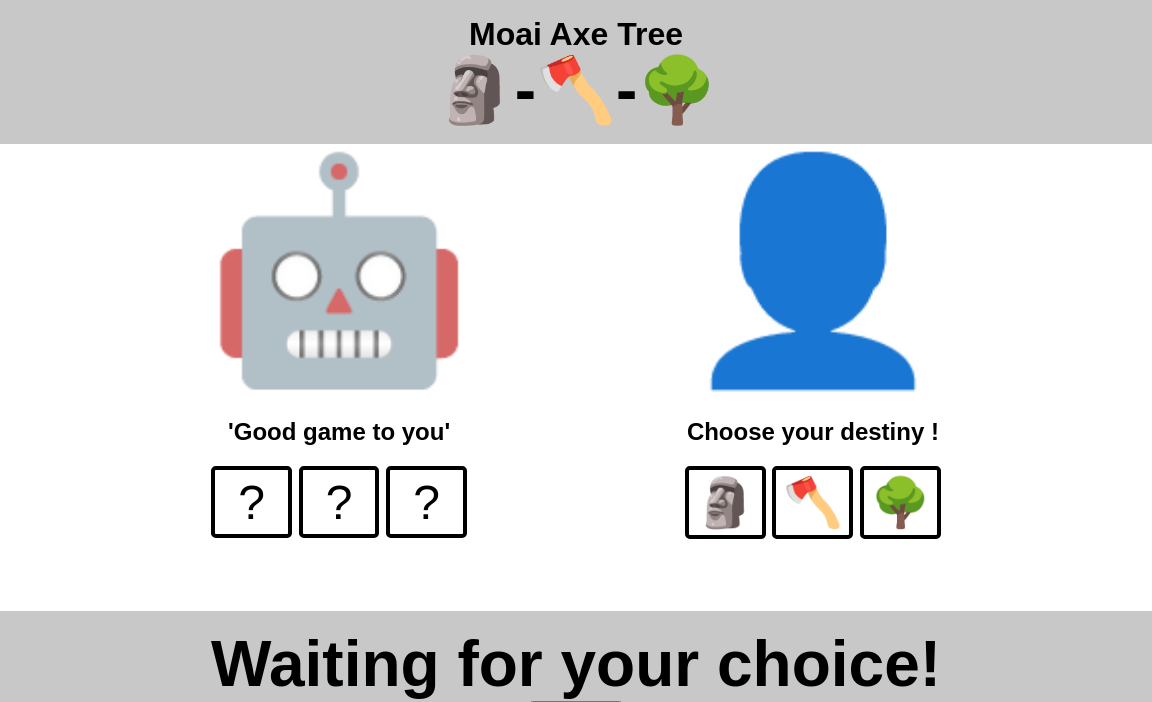
Game Tests › Test that I can make a choice
Click the button "🗿": (726,503) [685, 466, 766, 540]
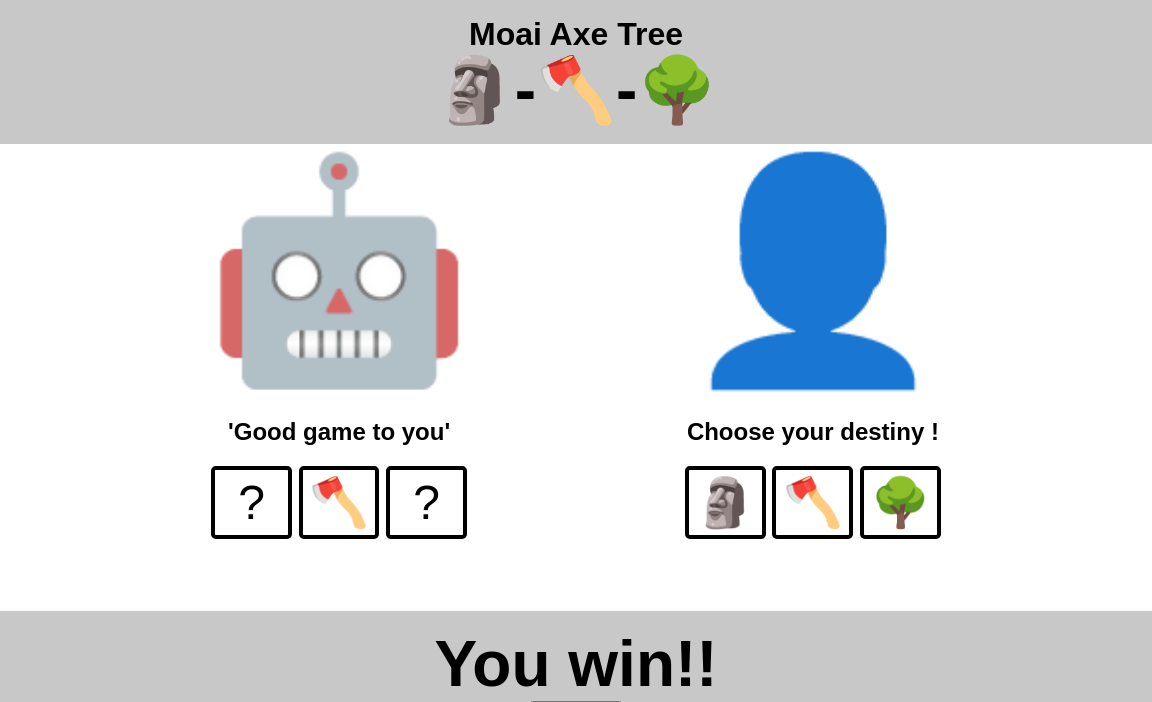
expect the heading with test id "result_footer" no longer shows "Waiting for your choice": met
